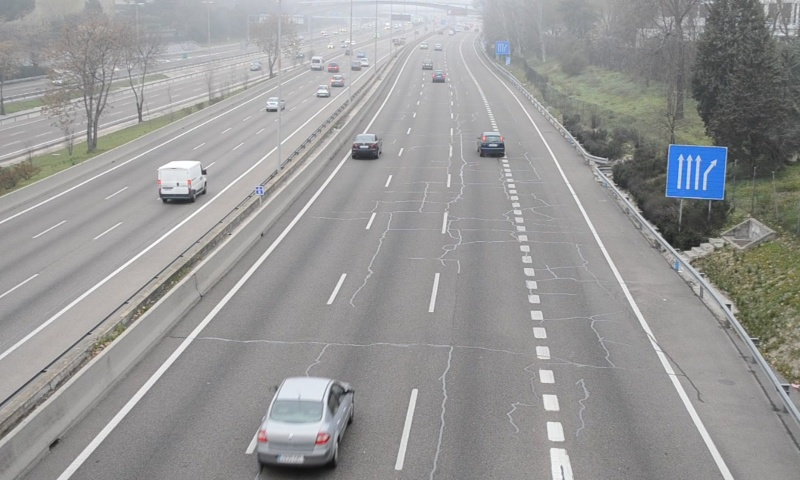car: (258, 378, 353, 466), (351, 133, 380, 158), (479, 131, 504, 158)
